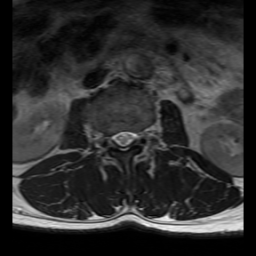CCS_normal: (120, 123, 127, 157)
LFS_normal: (136, 121, 144, 152)
LLS_normal: (127, 123, 136, 151)
RFS_normal: (102, 126, 111, 154)
RLS_stenosis: (111, 126, 120, 152)
